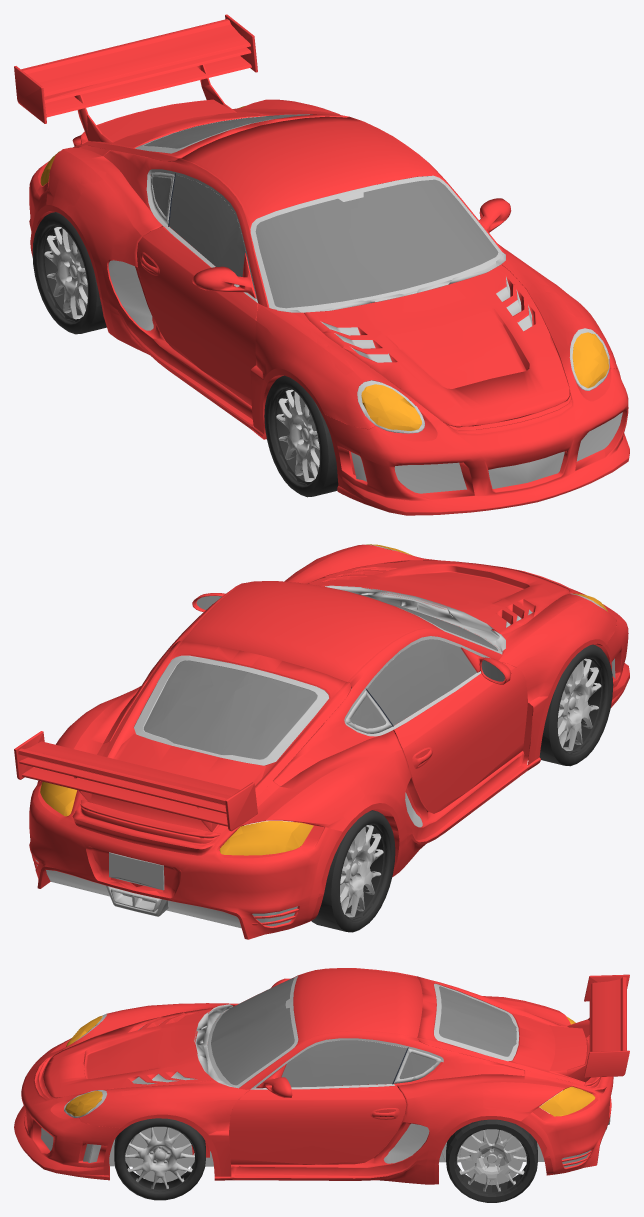
Rendered from Car_Opt_Porsche.fbx.
The picture shows the model from 3 angles, top to bottom: view 1: azimuth 30°, elevation 25°; view 2: azimuth 150°, elevation 25°; view 3: azimuth 270°, elevation 25°; orthographic projection. The views are drawn at different scales.
Visible parts, largest first — view 1: object001, Object261, Object267, Object264.001, Object266.001, KIT00_LEFT_SIDE_MIRROR_A.003; view 2: object001, Object267, Object261, Object266.001, Object264.001; view 3: object001, KIT00_LEFT_SIDE_MIRROR_A.003, Object261, Circle, Circle.002.
Boxes of the visible parts, box(x1,y1,x2,y2) form: object001: box(14, 14, 629, 515); Object261: box(304, 264, 569, 427); Object267: box(137, 175, 258, 405); Object264.001: box(264, 375, 338, 497); Object266.001: box(32, 212, 106, 334); KIT00_LEFT_SIDE_MIRROR_A.003: box(377, 176, 511, 248); object001: box(14, 544, 629, 939); Object267: box(367, 639, 527, 813); Object261: box(308, 560, 569, 636); Object266.001: box(311, 810, 395, 932); Object264.001: box(539, 644, 613, 766); object001: box(14, 968, 629, 1184); KIT00_LEFT_SIDE_MIRROR_A.003: box(229, 1040, 406, 1164); Object261: box(43, 1008, 213, 1097); Circle: box(446, 1119, 537, 1202); Circle.002: box(114, 1118, 205, 1200).
Bounding box in the file's own units: 196 × 127 × 450.
